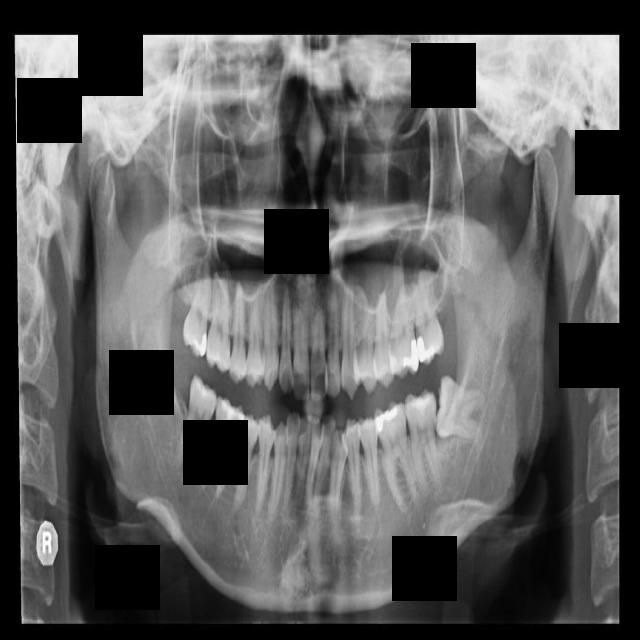52: (399, 386, 444, 439), (373, 400, 407, 448), (414, 318, 446, 367), (386, 334, 420, 380), (181, 308, 209, 360), (214, 395, 245, 440)
73: (589, 589, 592, 599)
BioHorizons Implant: (409, 262, 446, 368)
Biomet 3i Implant: (432, 374, 492, 445)
Blue Sky Bio Implant: (402, 387, 444, 496)
Caries: (180, 250, 216, 359)
Implant: (171, 373, 222, 481)
